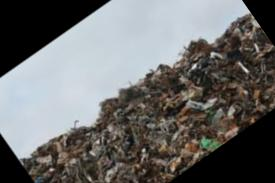Trash: (11, 0, 275, 183)
